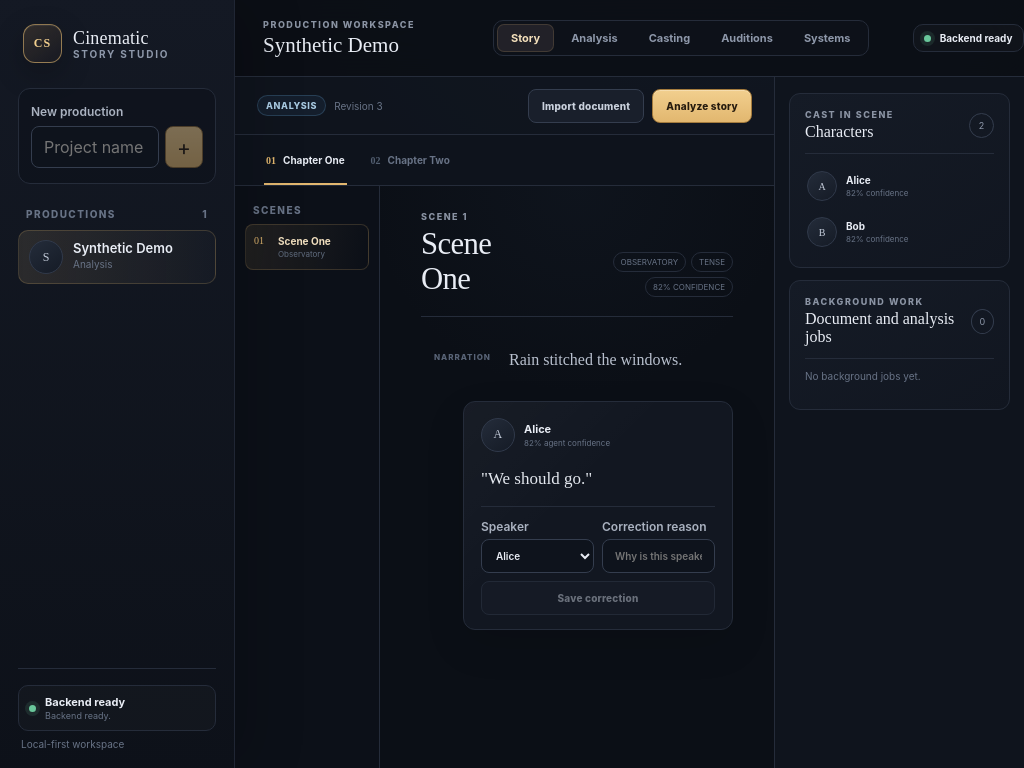
it: Phase 0 desktop workspace › shows Kokoro and FFmpeg status without blocking project APIs
Check: the text "\"We should go.\"" is shown, box [481,469,592,488]
Click the button "Systems" at (827, 38), box [790,24,865,52]
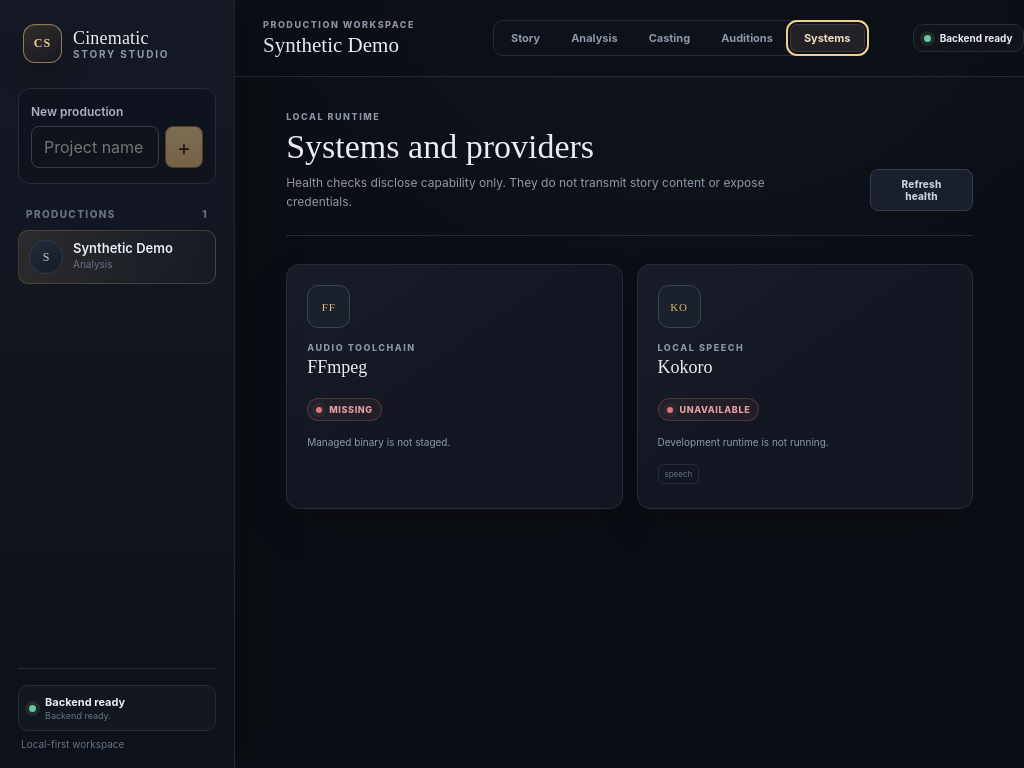
Check: the heading "Kokoro" is shown, box [658,357,712,377]
Check: the text "Development runtime is not running." is shown, box [658,436,829,448]
Check: the heading "FFmpeg" is shown, box [307,357,367,377]
